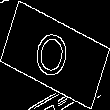O_S: (32, 23, 78, 87)
